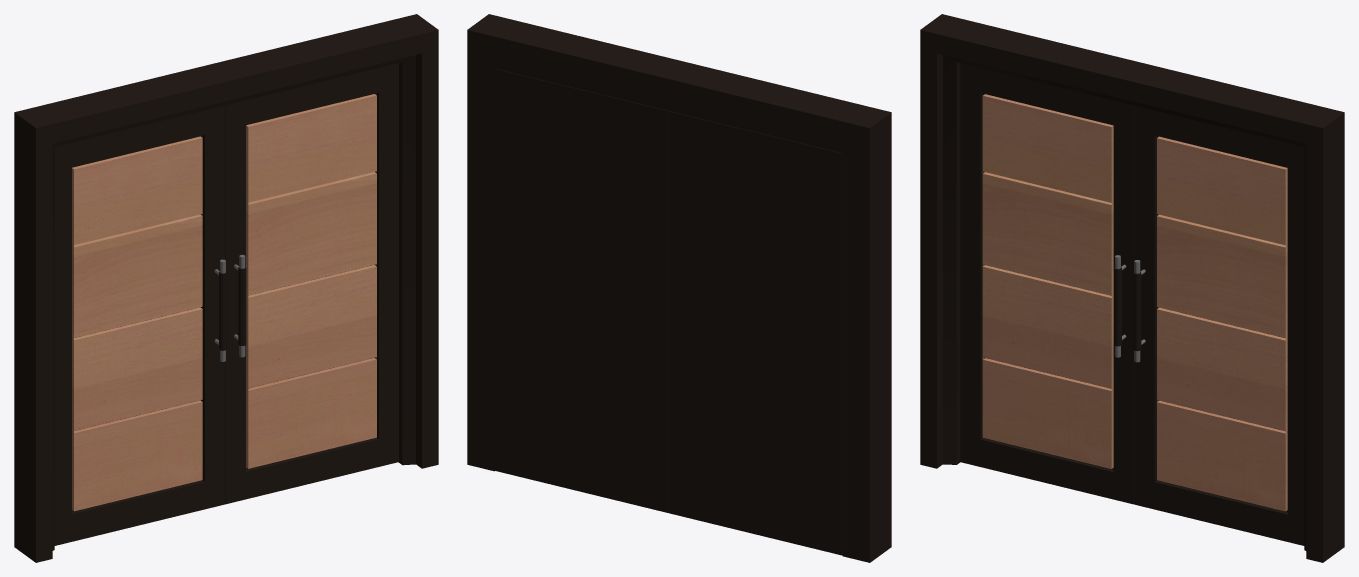
The model's file is door_B.fbx.
3 views of the same model, side by side, from view 1: azimuth 30°, elevation 25°; view 2: azimuth 150°, elevation 25°; view 3: azimuth 330°, elevation 25° (orthographic).
Parts seen in each view (by area): view 1: pCube4; view 2: pCube4; view 3: pCube4.
Part boxes in pixels (left/top/right/bottom): pCube4: left=14, top=14, right=438, bottom=562; pCube4: left=467, top=14, right=891, bottom=562; pCube4: left=920, top=14, right=1344, bottom=562.
Size of the model in its own units: 0.1033 by 0.1066 by 0.00969.
3 materials, 1 textured.
